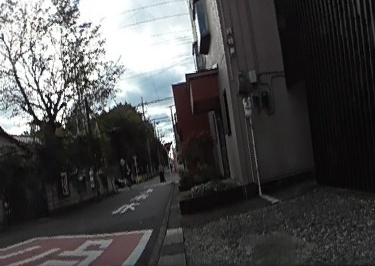person: (119, 155, 133, 188)
